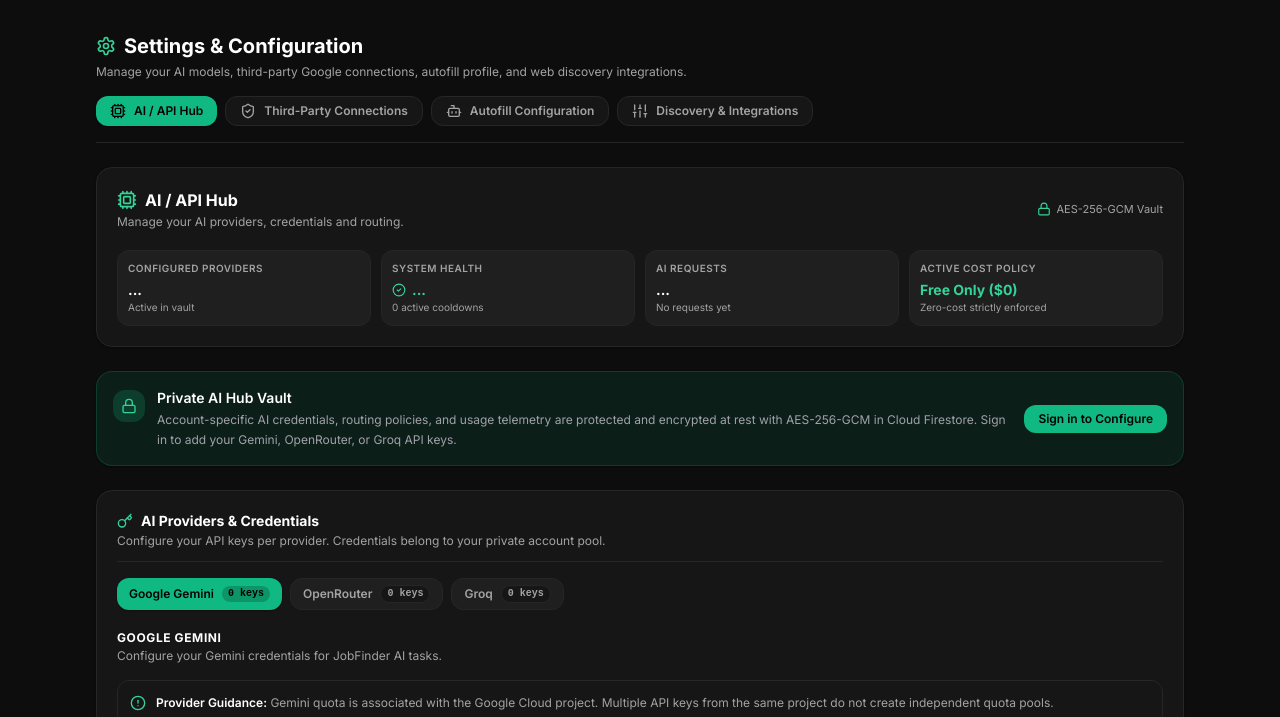
SettingsPage Autofill Configuration & Integrations › displays guest notice in Autofill tab and opens AuthModal when guest clicks Save
Click the button "Autofill Configuration" at point(520, 111), box [431,96,609,126]
(page scrolled)
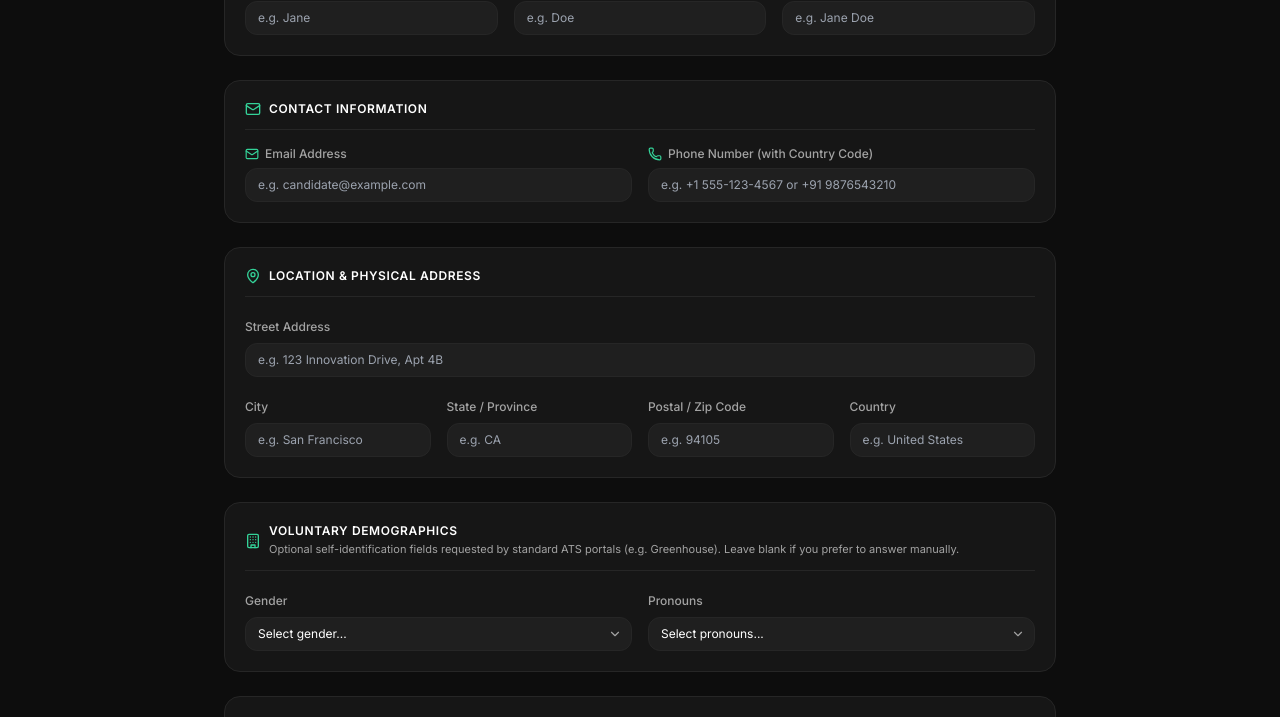
Note: Fill in a field to enable save
Type "100 Innovation Way" into the field with placeholder "e.g. 123 Innovation Drive, Apt 4B" at point(640, 360), box [245,343,1035,377]
(page scrolled)
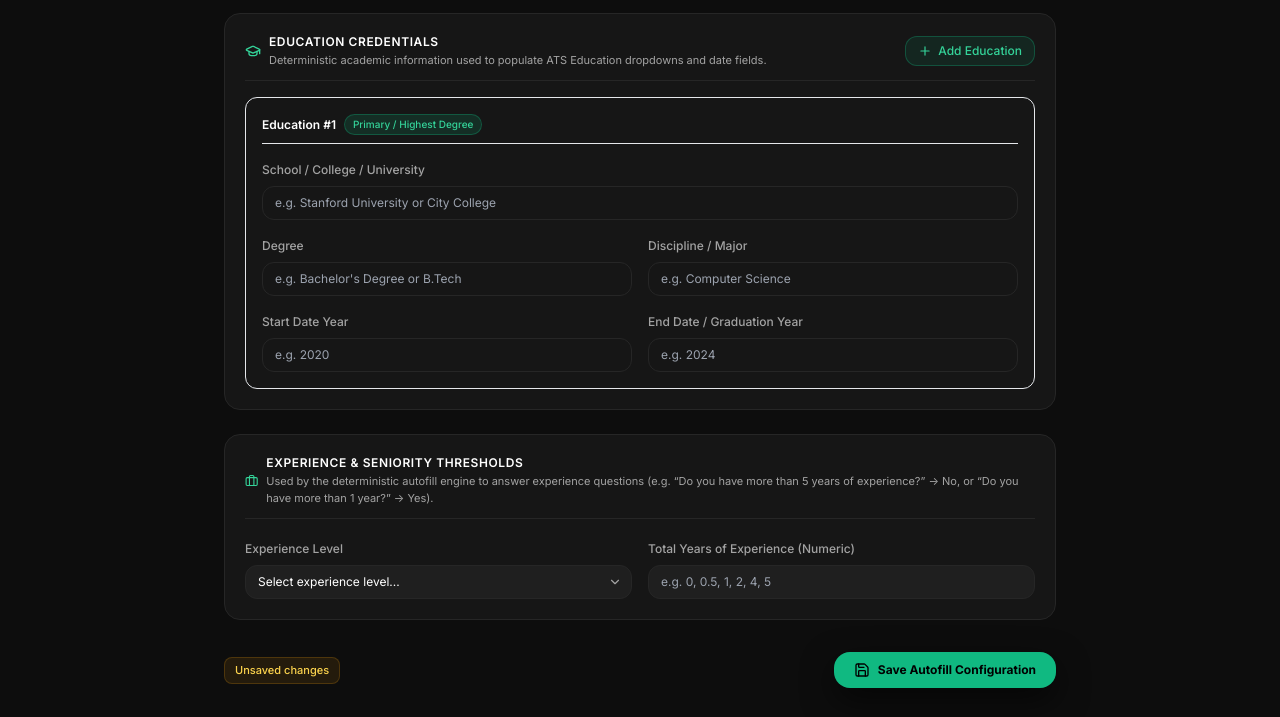
Click the button "Save Autofill Configuration" at point(945, 670), box [834,652,1056,688]
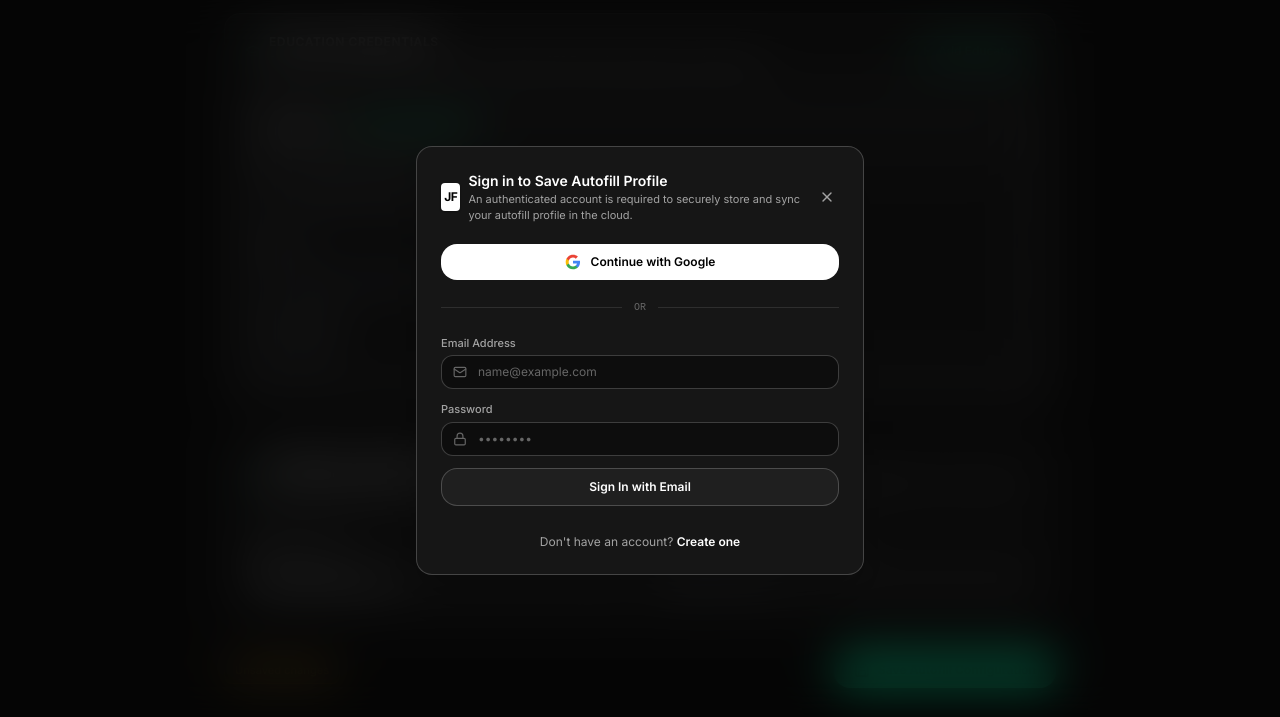
expect the heading "Sign in to Save Autofill Profile" is shown: met, box [468,172,667,188]
